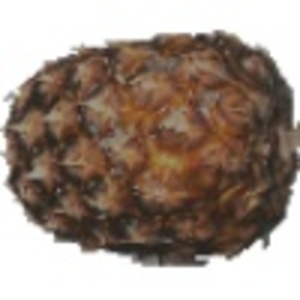abacaxi: (1, 25, 297, 254)
